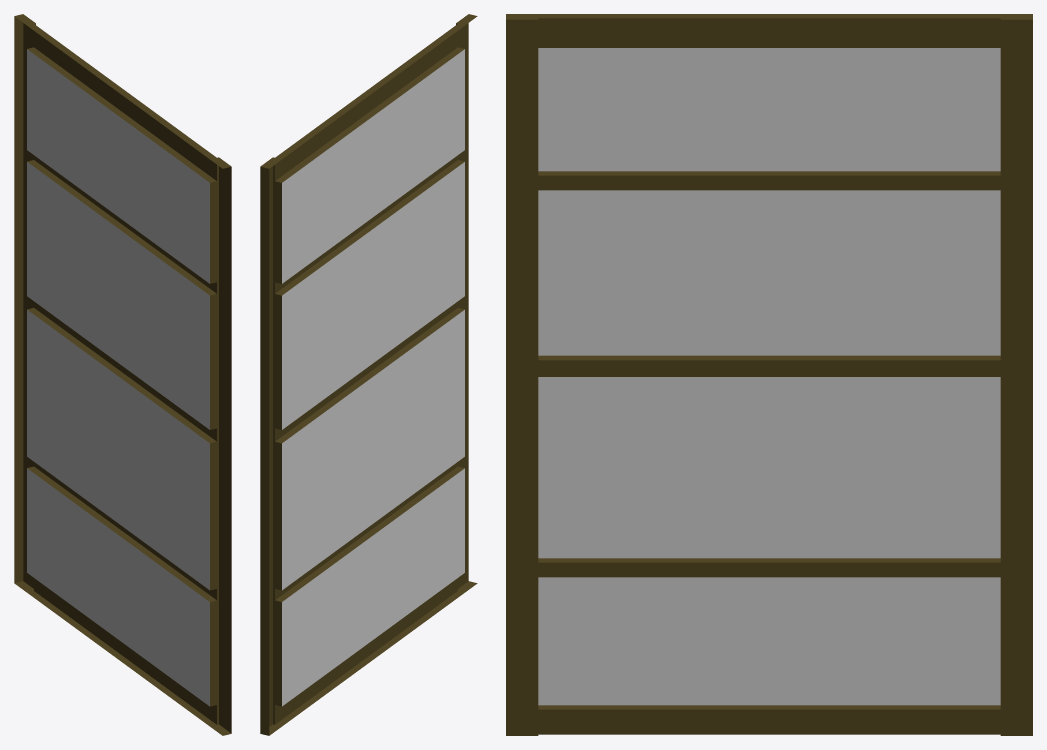
File: GB_Wall_3Stripe_2M_V1.fbx
3 renders of one model, left to right at view 1: azimuth 30°, elevation 25°; view 2: azimuth 150°, elevation 25°; view 3: azimuth 270°, elevation 25°, orthographic. The views are drawn at different scales.
Parts seen in each view (by area): view 1: Wall_Plaster1; view 2: Wall_Plaster1; view 3: Wall_Plaster1.
Part boxes in pixels (<box>): Wall_Plaster1: <box>14,14,231,735</box>; Wall_Plaster1: <box>260,14,477,735</box>; Wall_Plaster1: <box>506,14,1032,735</box>.
Bounding box in the file's own units: 0.05 × 3 × 2.
